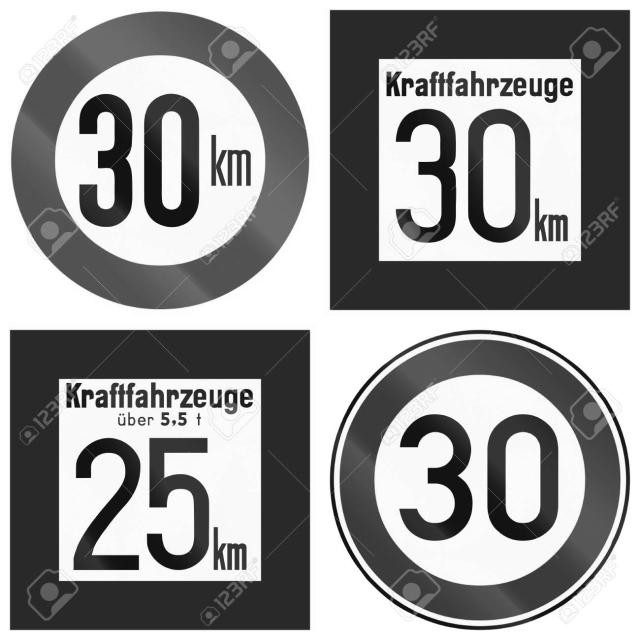speed_30: (330, 328, 631, 627)
